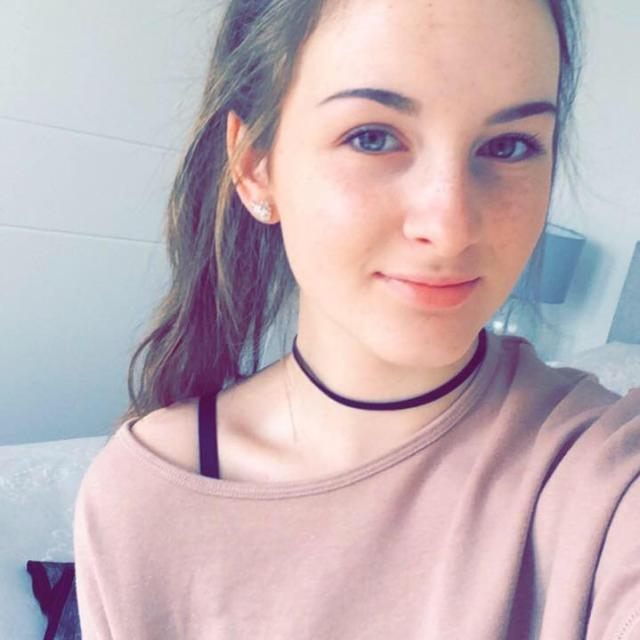human: (71, 3, 640, 640)
